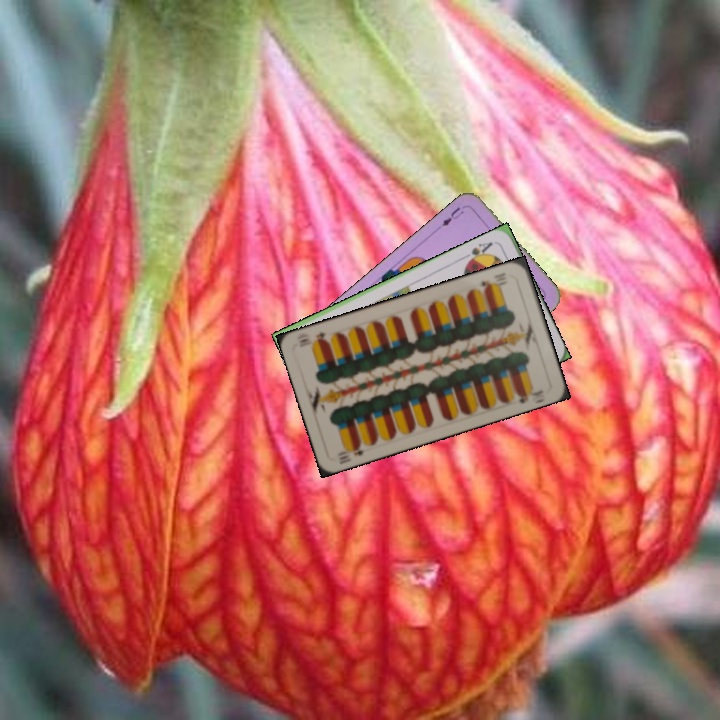E10: (334, 439, 371, 462), (477, 268, 508, 293)
EU: (434, 203, 466, 232)
SA: (460, 238, 495, 267)
